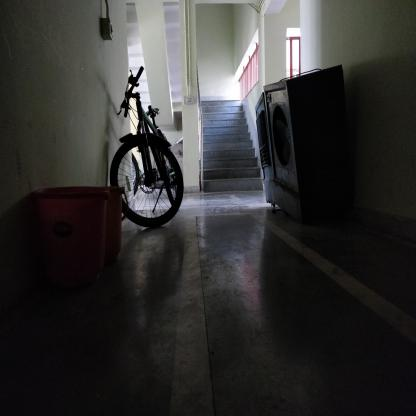stairs: (206, 99, 241, 195)
